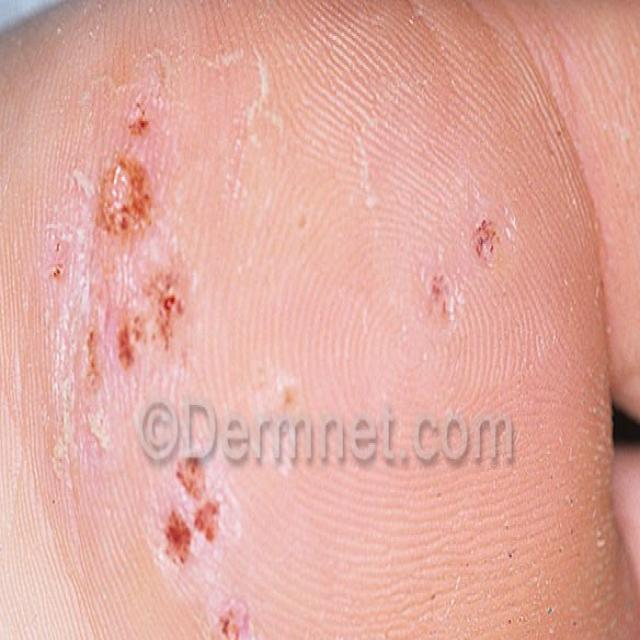Warts: (43, 65, 287, 640), (403, 163, 518, 377)
